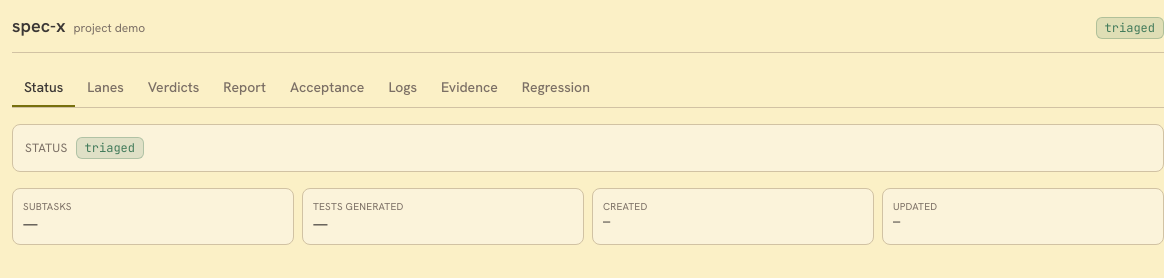
Test: <TFactoryTaskDetail> acceptance tab › shows the empty-gallery note when no media was captured
This screenshot has width=1164, height=278.
Step 1. Click the tab with test id "tab-acceptance" → [327, 88], box [278,69,376,107]
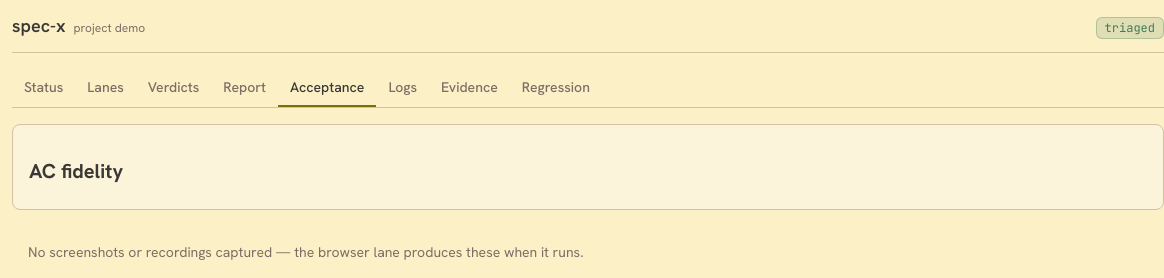
Result: the text with test id "evidence-gallery-empty" is shown at [28,243,584,261]
